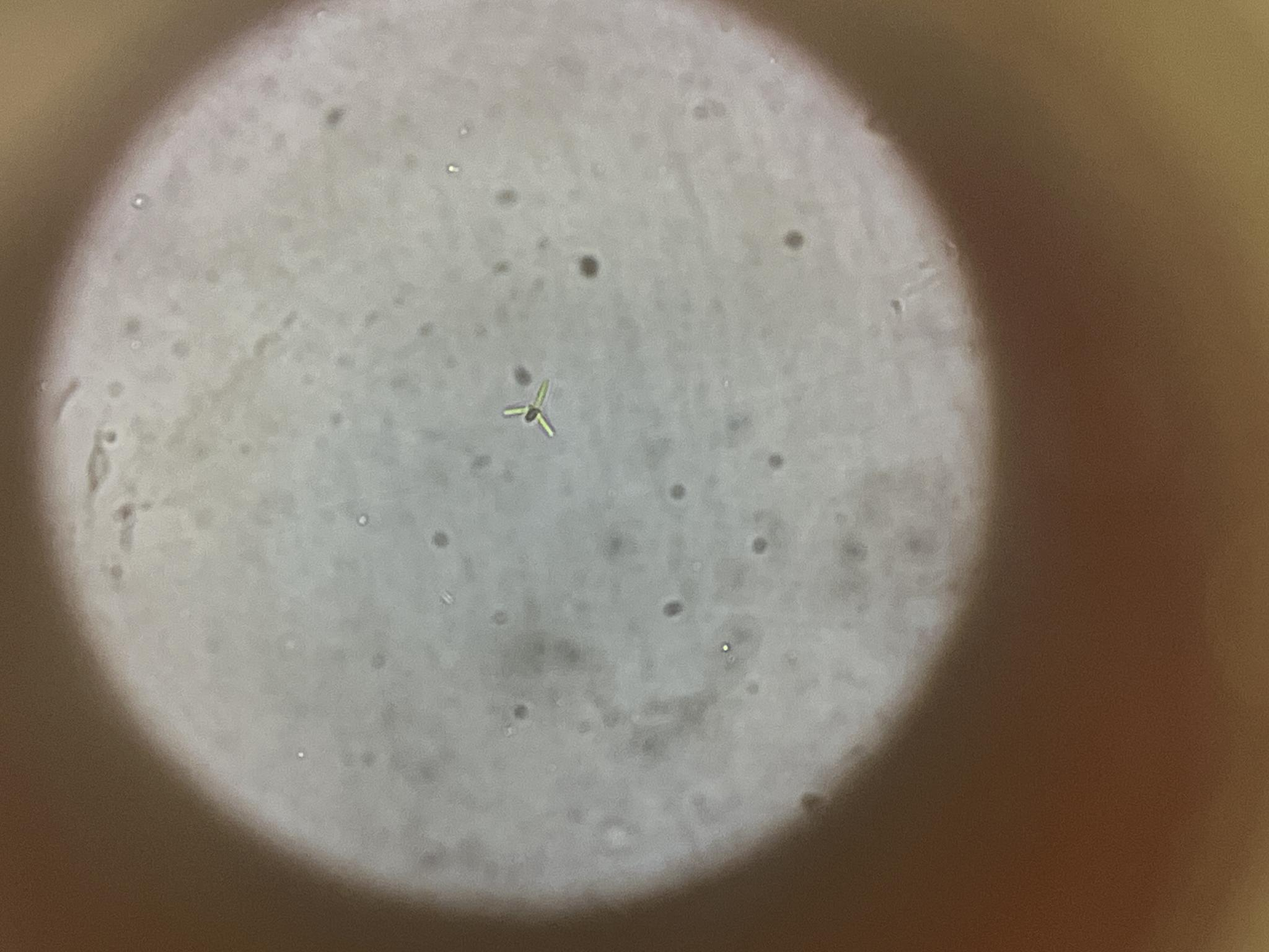Scenedesmus: (501, 365, 560, 447)
